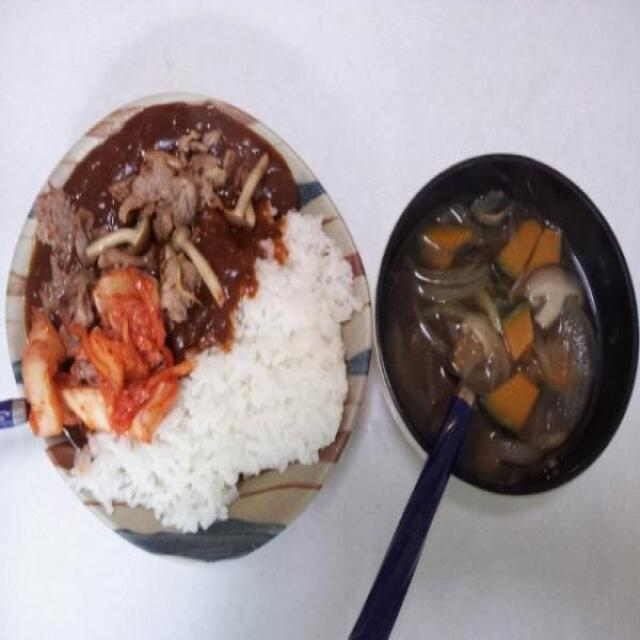Beef Curry: (22, 96, 264, 359)
